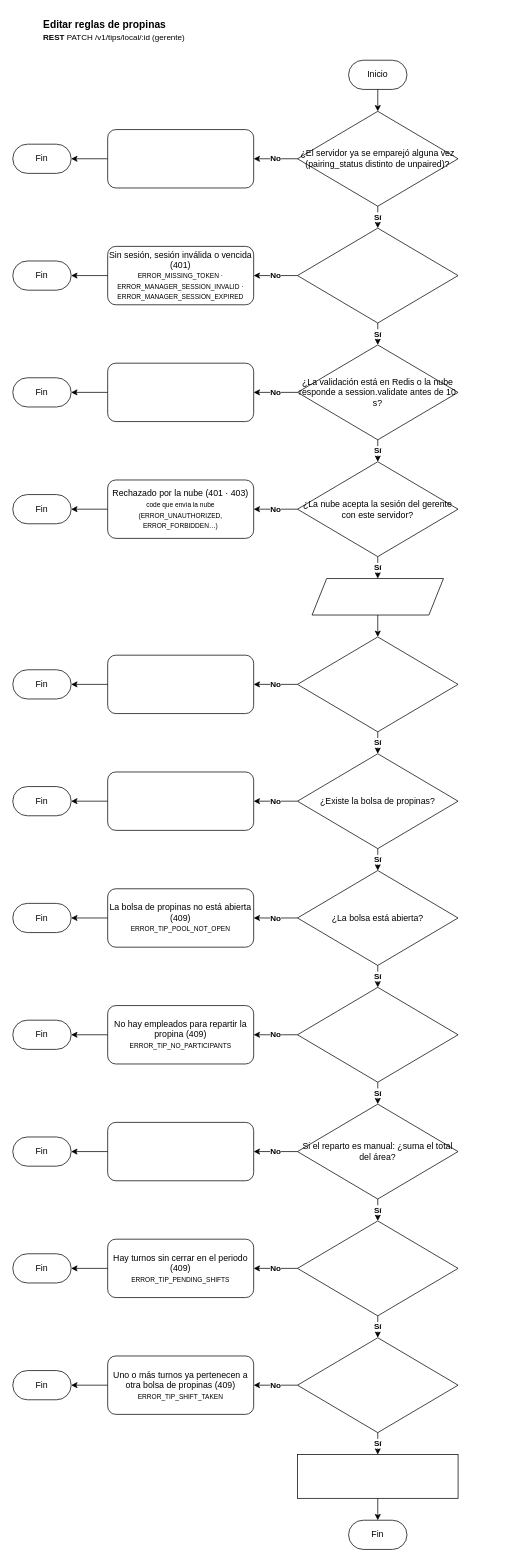
This 522x1562 diagram has some shape labels left out. Each missing label, with the centre of its shape:
"Datos inválidos (400) ERROR_BAD_REQUEST" belongs at (180,684).
"El reparto manual no suma el total de la propina (409) ERROR_TIP_MANUAL_MISMATCH" belongs at (180,1151).
"La nube no responde (503) ERROR_CLOUD_UNAVAILABLE · ERROR_SERVER_UNLINKED" belongs at (180,392).
"No se encontró la bolsa de propinas (404) ERROR_TIP_POOL_NOT_FOUND" belongs at (180,800).
"Recibir datos" belongs at (377,596).
"Responder 200 con el mensaje POOL_UPDATED" belongs at (377,1476).
"Servidor sin emparejar (409) ERROR_SERVER_NOT_PAIRED" belongs at (180,158).
"¿Están cerrados todos los turnos del periodo?" belongs at (377,1268).
"¿Hay empleados para repartir?" belongs at (377,1034).
"¿Los datos son válidos?" belongs at (377,684).
"¿Ningún turno pertenece ya a otra bolsa?" belongs at (377,1385).
"¿Trae una sesión de gerente válida (Bearer mss_..., sin 30 min de inactividad)?" belongs at (377,275).
